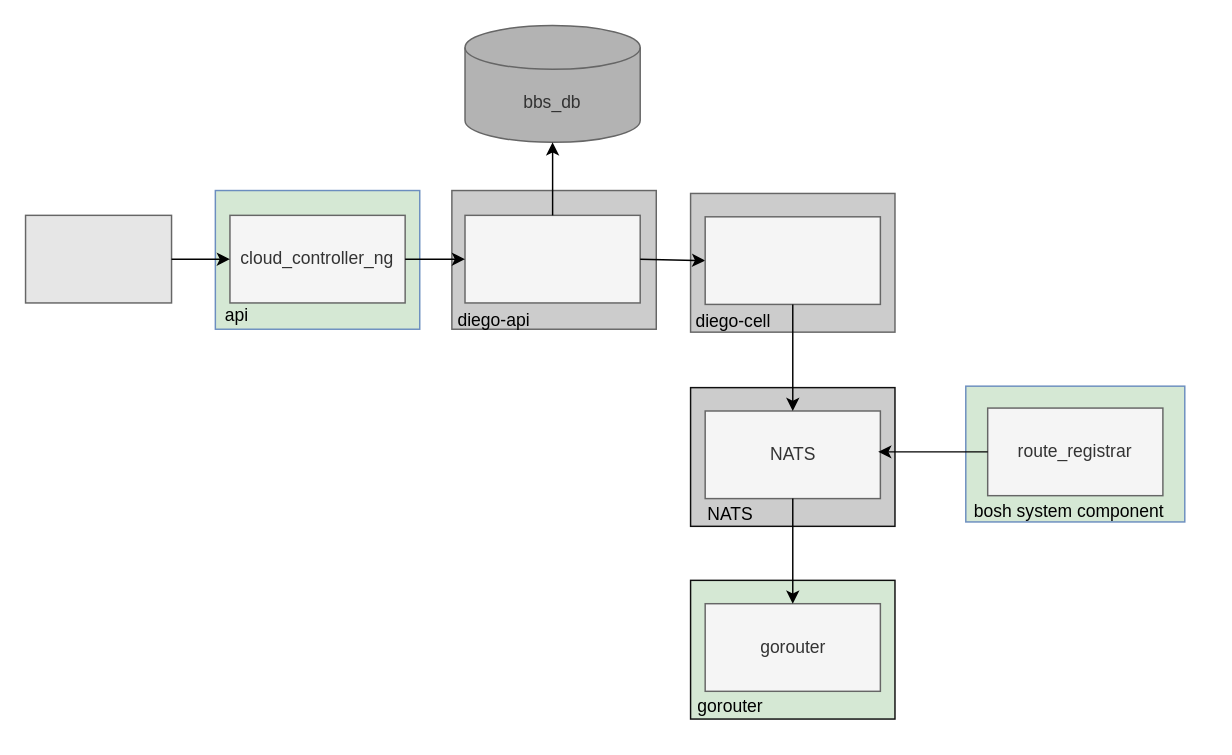
The diagram is 1232 pixels wide and 755 high, and some of its shapes have lost their labels. The centre of each missing label's shape, as x and y in pixels:
"bbs" goes at point (552, 258).
"cf cli" goes at point (98, 258).
"route_emitter" goes at point (792, 259).
